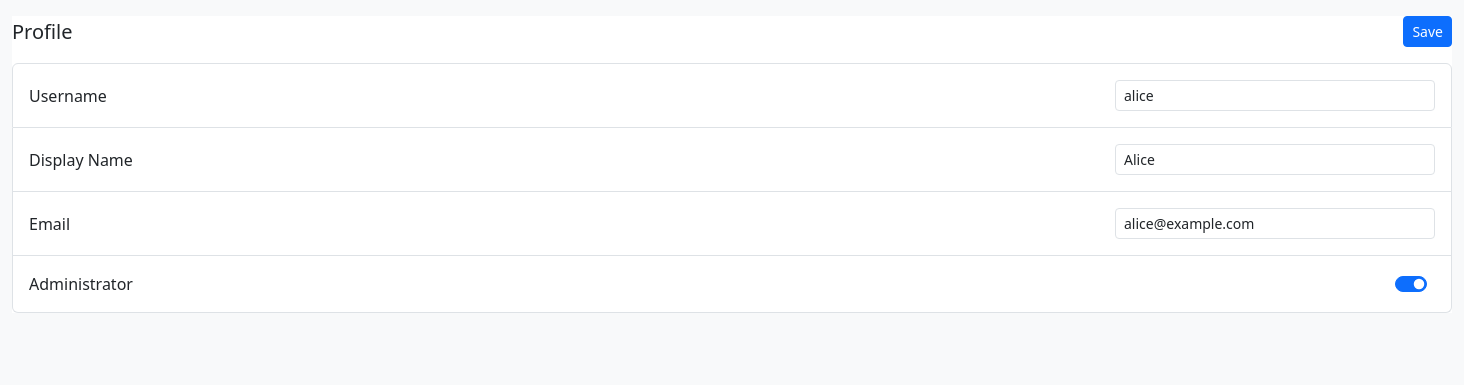
AdminUserProfileForm › clears error on next successful submit
Click the button "Save" at (1428, 32), box 1403,16 -> 1452,47
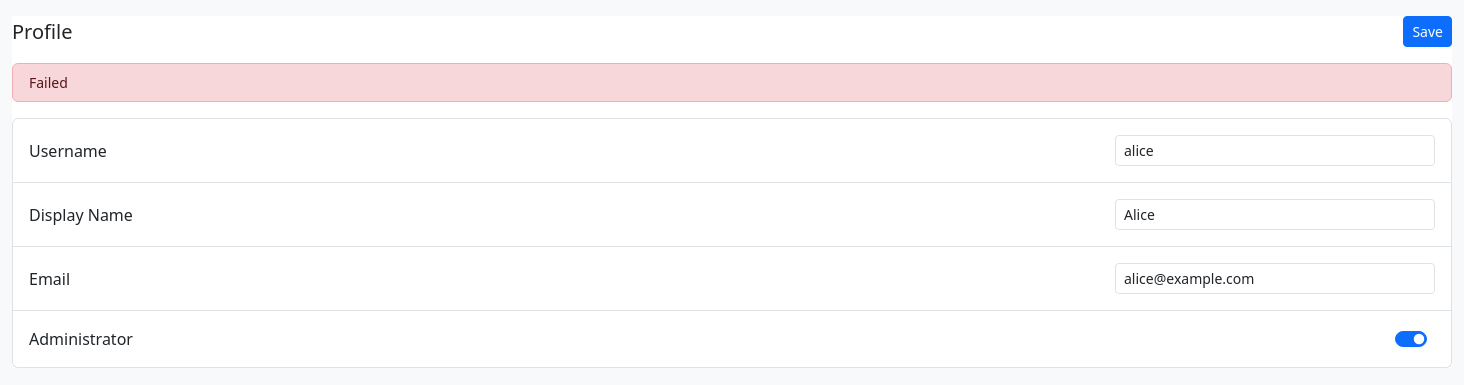
Now the message "Failed" is shown, box 12,63 -> 1452,102
Click the button "Save" at (1428, 32), box 1403,16 -> 1452,47
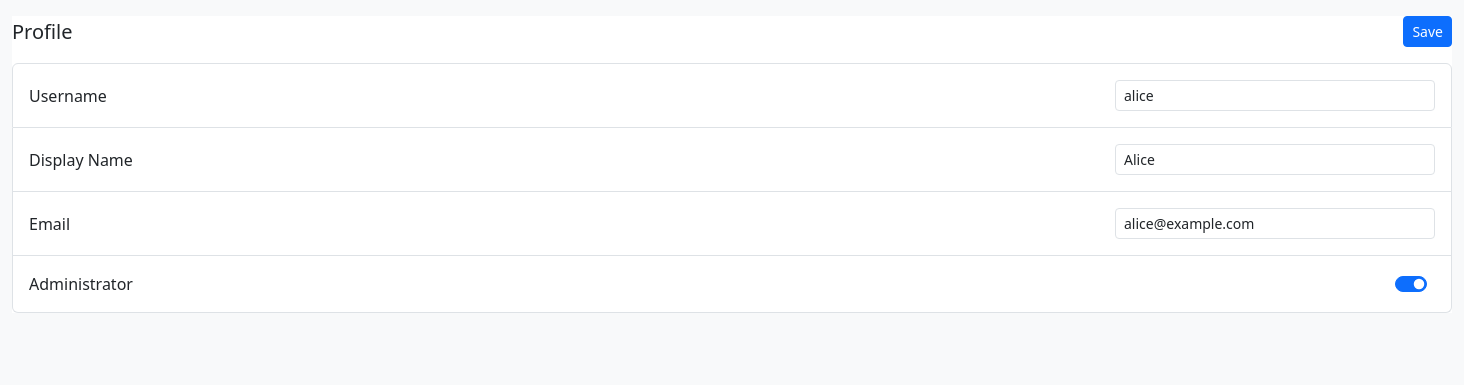
Now the message "Failed" is gone
